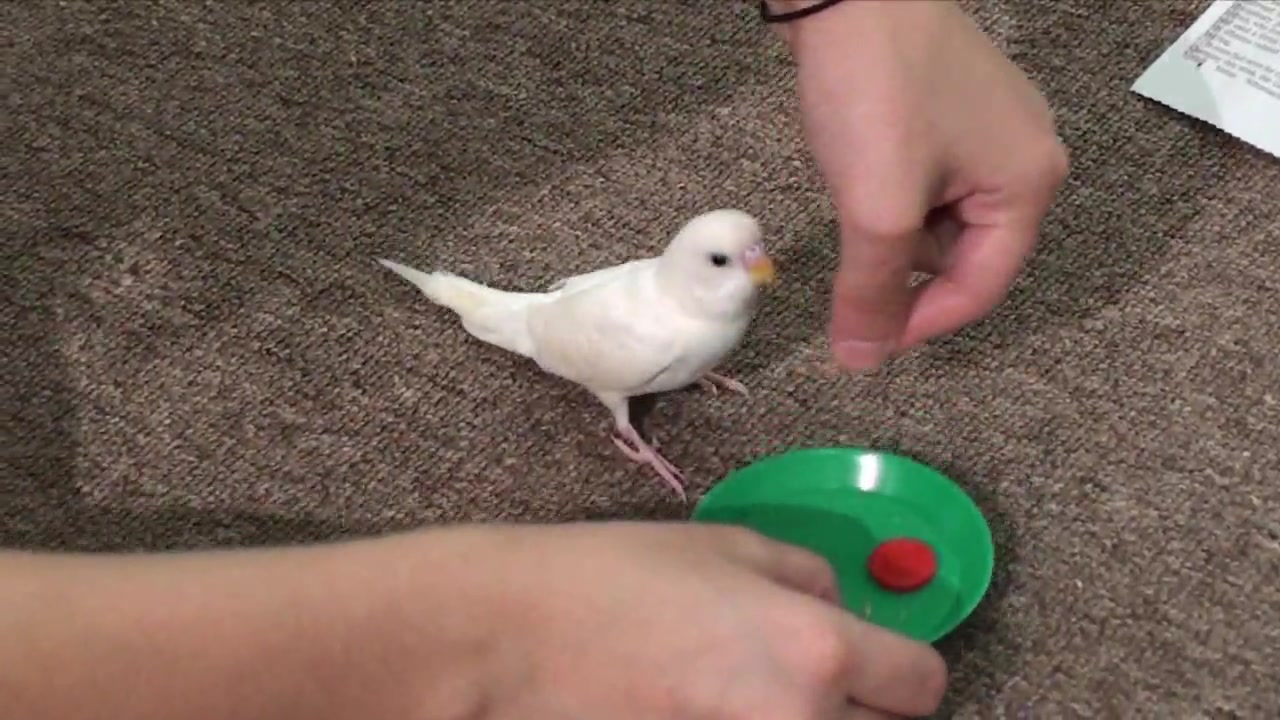bird: (375, 208, 781, 504)
